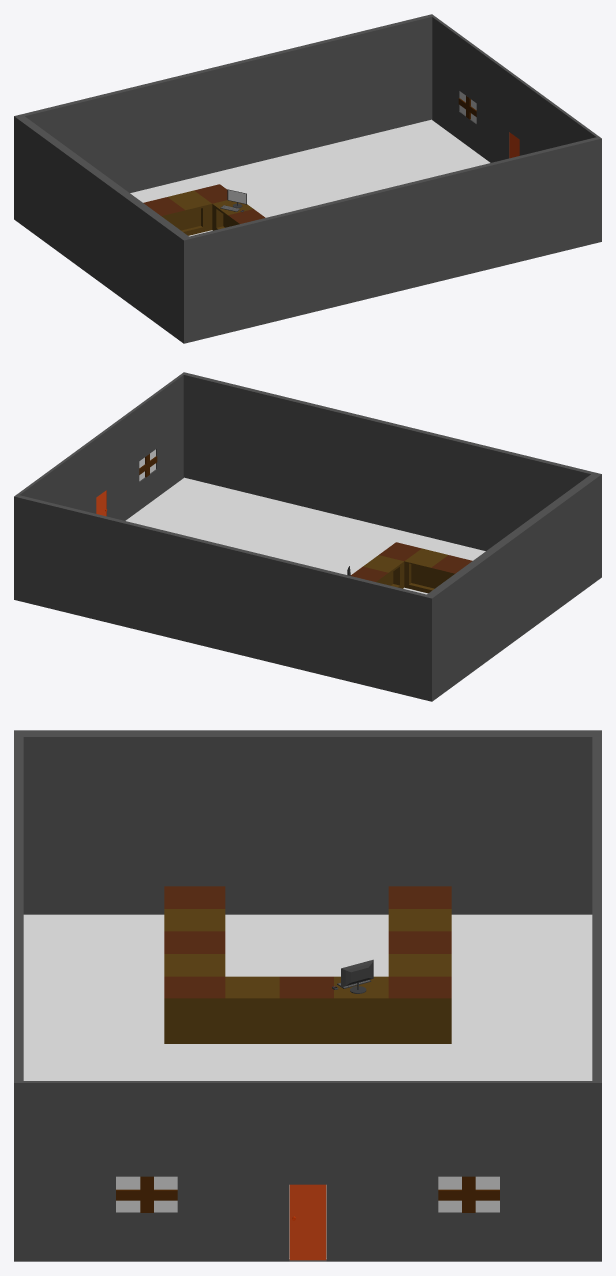
File: Escritório.fbx
3 renders of one model, top to bottom at view 1: azimuth 30°, elevation 25°; view 2: azimuth 150°, elevation 25°; view 3: azimuth 270°, elevation 25°, orthographic. The views are drawn at different scales.
Visible parts, largest first — view 1: Cube, Plane, Cube.001; view 2: Cube, Plane, Cube.001; view 3: Cube, Plane, Cube.001, Cylinder, Cube.014.
Part boxes in pixels (x1,y1,x2,y2): Cube: (14, 14, 601, 343); Plane: (130, 119, 490, 236); Cube.001: (143, 184, 265, 235); Cube: (14, 372, 601, 701); Plane: (125, 477, 485, 594); Cube.001: (350, 542, 472, 593); Cube: (14, 730, 601, 1261); Plane: (23, 914, 592, 1257); Cube.001: (164, 886, 451, 1043); Cylinder: (289, 1184, 326, 1260); Cube.014: (341, 959, 373, 993).
Size of the model in its own units: 10147 by 2391 by 7131.
